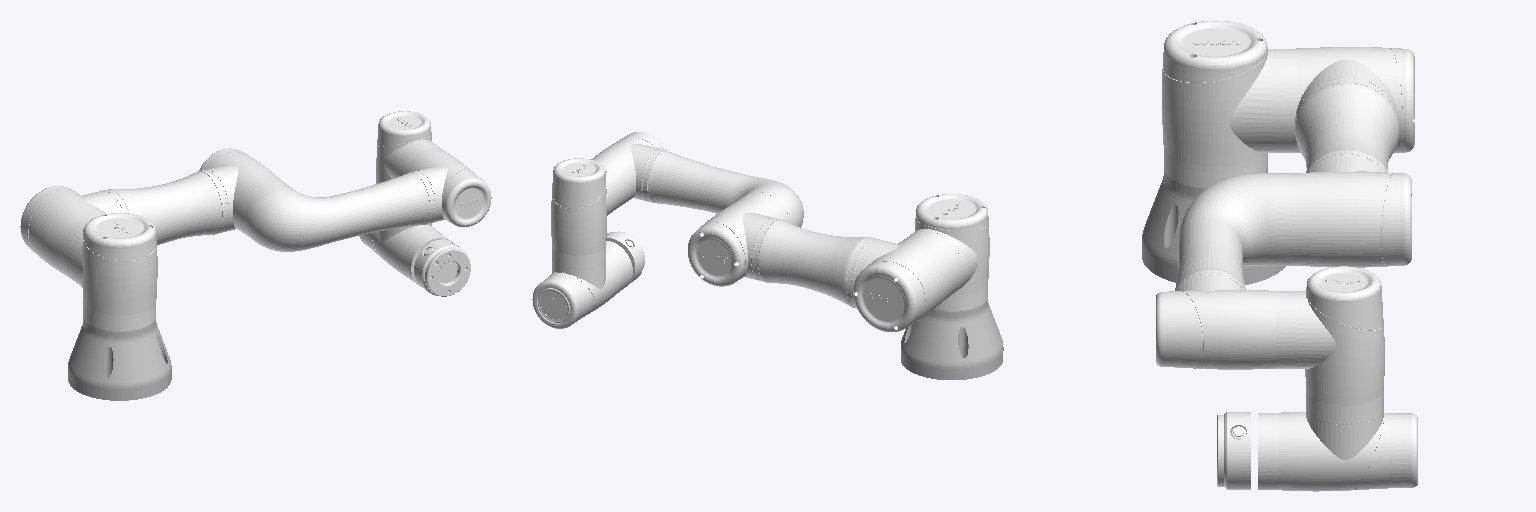
The robot description file, URDF, robot "jaka_zu3":
<?xml version="1.0" encoding="utf-8"?>
<!-- This URDF was automatically created by SolidWorks to URDF Exporter! Originally created by [author] ([email redacted]) 
     Commit Version: 1.6.0-1-g15f4949  Build Version: 1.6.7594.29634
     For more information, please see http://wiki.ros.org/sw_urdf_exporter -->
<robot
  name="jaka_zu3">
  <link
    name="Link_0">
    <inertial>
      <origin
        xyz="-0.0015673 1.7768E-05 0.05088"
        rpy="0 0 0" />
      <mass
        value="0.46393" />
      <inertia
        ixx="0.00064494"
        ixy="-1.0227E-07"
        ixz="-1.0724E-05"
        iyy="0.00065157"
        iyz="3.7859E-07"
        izz="0.00083278" />
    </inertial>
    <visual>
      <origin
        xyz="0 0 0"
        rpy="0 0 0" />
      <geometry>
        <mesh
          filename="package://jaka_zu3_myurdf/meshes/Link_0.STL" />
      </geometry>
      <material
        name="">
        <color
          rgba="0.84706 0.84706 0.84706 1" />
      </material>
    </visual>
    <collision>
      <origin
        xyz="0 0 0"
        rpy="0 0 0" />
      <geometry>
        <mesh
          filename="package://jaka_zu3_myurdf/meshes/Link_0.STL" />
      </geometry>
    </collision>
  </link>
  <link
    name="Link_1">
    <inertial>
      <origin
        xyz="-5.5578E-07 0.0032617 -0.0033928"
        rpy="0 0 0" />
      <mass
        value="0.88365" />
      <inertia
        ixx="0.0015634"
        ixy="1.5495E-08"
        ixz="5.6443E-09"
        iyy="0.0015047"
        iyz="-9.0168E-06"
        izz="0.0010527" />
    </inertial>
    <visual>
      <origin
        xyz="0 0 0"
        rpy="0 0 0" />
      <geometry>
        <mesh
          filename="package://jaka_zu3_myurdf/meshes/Link_1.STL" />
      </geometry>
      <material
        name="">
        <color
          rgba="1 1 1 1" />
      </material>
    </visual>
    <collision>
      <origin
        xyz="0 0 0"
        rpy="0 0 0" />
      <geometry>
        <mesh
          filename="package://jaka_zu3_myurdf/meshes/Link_1.STL" />
      </geometry>
    </collision>
  </link>
  <joint
    name="joint_1"
    type="revolute">
    <origin
      xyz="0 0 0.15055"
      rpy="0 0 0" />
    <parent
      link="Link_0" />
    <child
      link="Link_1" />
    <axis
      xyz="0 0 -1" />
    <limit
      lower="-4.71"
      upper="4.71"
      effort="300"
      velocity="3.14" />
    <dynamics
      damping="50"
      friction="1" />
  </joint>
  <link
    name="Link_2">
    <inertial>
      <origin
        xyz="0.114 -5.5358E-07 -0.11162"
        rpy="0 0 0" />
      <mass
        value="2.3202" />
      <inertia
        ixx="0.0032518"
        ixy="1.6898E-08"
        ixz="-3.3843E-06"
        iyy="0.0045664"
        iyz="9.1919E-09"
        izz="0.0035107" />
    </inertial>
    <visual>
      <origin
        xyz="0 0 0"
        rpy="0 0 0" />
      <geometry>
        <mesh
          filename="package://jaka_zu3_myurdf/meshes/Link_2.STL" />
      </geometry>
      <material
        name="">
        <color
          rgba="1 1 1 1" />
      </material>
    </visual>
    <collision>
      <origin
        xyz="0 0 0"
        rpy="0 0 0" />
      <geometry>
        <mesh
          filename="package://jaka_zu3_myurdf/meshes/Link_2.STL" />
      </geometry>
    </collision>
  </link>
  <joint
    name="joint_2"
    type="revolute">
    <origin
      xyz="0 0 0"
      rpy="1.5708 0 0" />
    <parent
      link="Link_1" />
    <child
      link="Link_2" />
    <axis
      xyz="0 0 -1" />
    <limit
      lower="-1.48"
      upper="4.62"
      effort="300"
      velocity="3.14" />
    <dynamics
      damping="50"
      friction="1" />
  </joint>
  <link
    name="Link_3">
    <inertial>
      <origin
        xyz="0.13327 8.6093E-07 -0.006051"
        rpy="0 0 0" />
      <mass
        value="1.2034" />
      <inertia
        ixx="0.00093819"
        ixy="1.276E-07"
        ixz="-0.00033673"
        iyy="0.0038664"
        iyz="5.3811E-08"
        izz="0.0036229" />
    </inertial>
    <visual>
      <origin
        xyz="0 0 0"
        rpy="0 0 0" />
      <geometry>
        <mesh
          filename="package://jaka_zu3_myurdf/meshes/Link_3.STL" />
      </geometry>
      <material
        name="">
        <color
          rgba="1 1 1 1" />
      </material>
    </visual>
    <collision>
      <origin
        xyz="0 0 0"
        rpy="0 0 0" />
      <geometry>
        <mesh
          filename="package://jaka_zu3_myurdf/meshes/Link_3.STL" />
      </geometry>
    </collision>
  </link>
  <joint
    name="joint_3"
    type="revolute">
    <origin
      xyz="0.246 0 0"
      rpy="0 0 0" />
    <parent
      link="Link_2" />
    <child
      link="Link_3" />
    <axis
      xyz="0 0 1" />
    <limit
      lower="-3.05"
      upper="3.05"
      effort="300"
      velocity="3.14" />
    <dynamics
      damping="50"
      friction="1" />
  </joint>
  <link
    name="Link_4">
    <inertial>
      <origin
        xyz="6.5395E-08 -0.014051 0.0031609"
        rpy="0 0 0" />
      <mass
        value="0.49334" />
      <inertia
        ixx="0.00050163"
        ixy="-3.5155E-09"
        ixz="-2.6858E-09"
        iyy="0.00032415"
        iyz="-6.2159E-05"
        izz="0.00047909" />
    </inertial>
    <visual>
      <origin
        xyz="0 0 0"
        rpy="0 0 0" />
      <geometry>
        <mesh
          filename="package://jaka_zu3_myurdf/meshes/Link_4.STL" />
      </geometry>
      <material
        name="">
        <color
          rgba="1 1 1 1" />
      </material>
    </visual>
    <collision>
      <origin
        xyz="0 0 0"
        rpy="0 0 0" />
      <geometry>
        <mesh
          filename="package://jaka_zu3_myurdf/meshes/Link_4.STL" />
      </geometry>
    </collision>
  </link>
  <joint
    name="joint_4"
    type="revolute">
    <origin
      xyz="0.228 0 -0.113"
      rpy="0 0 0" />
    <parent
      link="Link_3" />
    <child
      link="Link_4" />
    <axis
      xyz="0 0 1" />
    <limit
      lower="-1.48"
      upper="4.62"
      effort="300"
      velocity="3.14" />
    <dynamics
      damping="50"
      friction="1" />
  </joint>
  <link
    name="Link_5">
    <inertial>
      <origin
        xyz="2.5684E-07 0.0068642 -0.0021581"
        rpy="0 0 0" />
      <mass
        value="0.55082" />
      <inertia
        ixx="0.0010014"
        ixy="4.8947E-09"
        ixz="4.7274E-10"
        iyy="0.00036028"
        iyz="-1.6847E-05"
        izz="0.0009728" />
    </inertial>
    <visual>
      <origin
        xyz="0 0 0"
        rpy="0 0 0" />
      <geometry>
        <mesh
          filename="package://jaka_zu3_myurdf/meshes/Link_5.STL" />
      </geometry>
      <material
        name="">
        <color
          rgba="1 1 1 1" />
      </material>
    </visual>
    <collision>
      <origin
        xyz="0 0 0"
        rpy="0 0 0" />
      <geometry>
        <mesh
          filename="package://jaka_zu3_myurdf/meshes/Link_5.STL" />
      </geometry>
    </collision>
  </link>
  <joint
    name="joint_5"
    type="revolute">
    <origin
      xyz="0 -0.11675 0"
      rpy="1.5708 0 0" />
    <parent
      link="Link_4" />
    <child
      link="Link_5" />
    <axis
      xyz="0 0 -1" />
    <limit
      lower="-4.71"
      upper="4.71"
      effort="300"
      velocity="3.14" />
    <dynamics
      damping="50"
      friction="1" />
  </joint>
  <link
    name="Link_6">
    <inertial>
      <origin
        xyz="5.2572E-05 -0.0001007 -0.0091035"
        rpy="0 0 0" />
      <mass
        value="0.094884" />
      <inertia
        ixx="3.2886E-05"
        ixy="-8.8218E-08"
        ixz="-5.2215E-08"
        iyy="3.3701E-05"
        iyz="2.9383E-07"
        izz="5.458E-05" />
    </inertial>
    <visual>
      <origin
        xyz="0 0 0"
        rpy="0 0 0" />
      <geometry>
        <mesh
          filename="package://jaka_zu3_myurdf/meshes/Link_6.STL" />
      </geometry>
      <material
        name="">
        <color
          rgba="1 1 1 1" />
      </material>
    </visual>
    <collision>
      <origin
        xyz="0 0 0"
        rpy="0 0 0" />
      <geometry>
        <mesh
          filename="package://jaka_zu3_myurdf/meshes/Link_6.STL" />
      </geometry>
    </collision>
  </link>
  <joint
    name="joint_6"
    type="revolute">
    <origin
      xyz="0 0.105 0"
      rpy="-1.56318226073965 0 0" />
    <parent
      link="Link_5" />
    <child
      link="Link_6" />
    <axis
      xyz="-1 0 0" />
    <limit
      lower="-3.14"
      upper="3.14"
      effort="100"
      velocity="1" />
  </joint>
</robot>

--- Render facts (derived) ---
The picture shows the robot from 3 angles, left to right: view 1: azimuth 30°, elevation 25°; view 2: azimuth 150°, elevation 25°; view 3: azimuth 270°, elevation 25°; orthographic projection.
Robot: jaka_zu3 — 7 links, 6 joints (6 revolute); root link Link_0; default pose: all joints at 0.
Links seen in each view (by area): view 1: Link_3, Link_2, Link_1, Link_0, Link_4, Link_6, Link_5; view 2: Link_2, Link_3, Link_0, Link_4, Link_1, Link_5, Link_6; view 3: Link_2, Link_3, Link_1, Link_4, Link_5, Link_0, Link_6.
Boxes of the visible links, <box> form: Link_3: <box>244,142,491,251</box>; Link_2: <box>20,148,288,280</box>; Link_1: <box>68,213,157,331</box>; Link_0: <box>68,318,171,400</box>; Link_4: <box>376,111,435,183</box>; Link_6: <box>414,239,470,296</box>; Link_5: <box>359,223,449,286</box>; Link_2: <box>688,192,962,331</box>; Link_3: <box>591,132,803,227</box>; Link_0: <box>901,300,1003,379</box>; Link_4: <box>551,158,618,268</box>; Link_1: <box>914,194,989,311</box>; Link_5: <box>532,241,632,328</box>; Link_6: <box>606,231,644,283</box>; Link_2: <box>1269,47,1414,267</box>; Link_3: <box>1156,173,1296,369</box>; Link_1: <box>1162,20,1272,188</box>; Link_4: <box>1297,266,1384,424</box>; Link_5: <box>1258,410,1417,491</box>; Link_0: <box>1142,169,1285,284</box>; Link_6: <box>1217,412,1250,489</box>.
Size in the robot's own frame: 0.5735 by 0.2415 by 0.2115 metres.
Meshes: 7 distinct files referenced, 7 mesh visuals loaded (7 binary STL).
